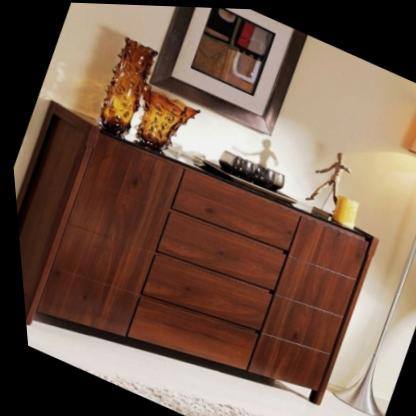Cupboard: (13, 101, 373, 402)
